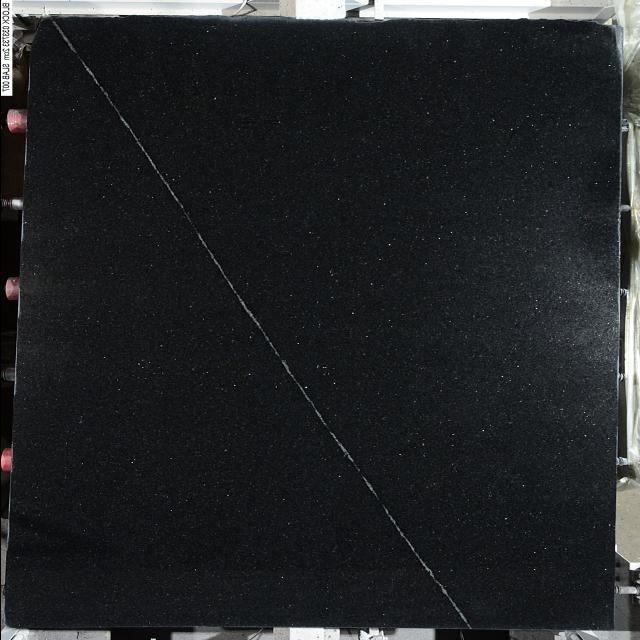chapa: (5, 16, 619, 630)
